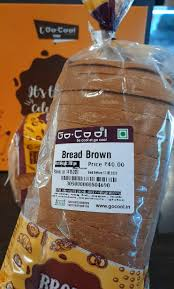bread: (8, 7, 171, 289)
